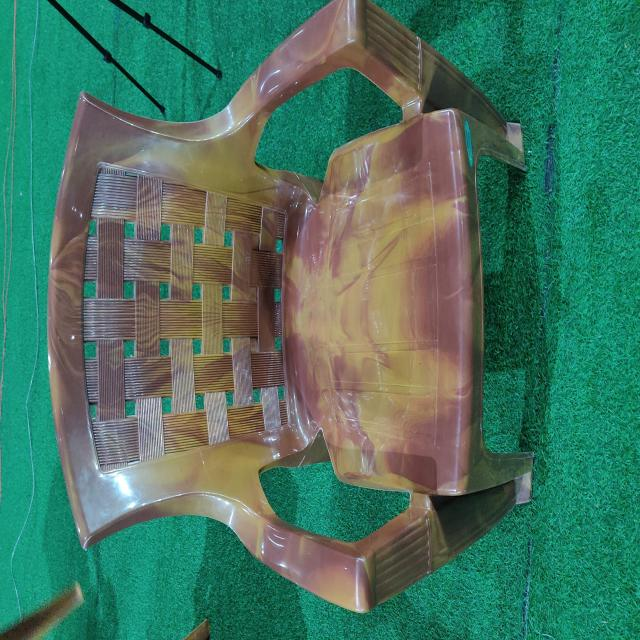Camer Stand: (46, 1, 534, 616)
